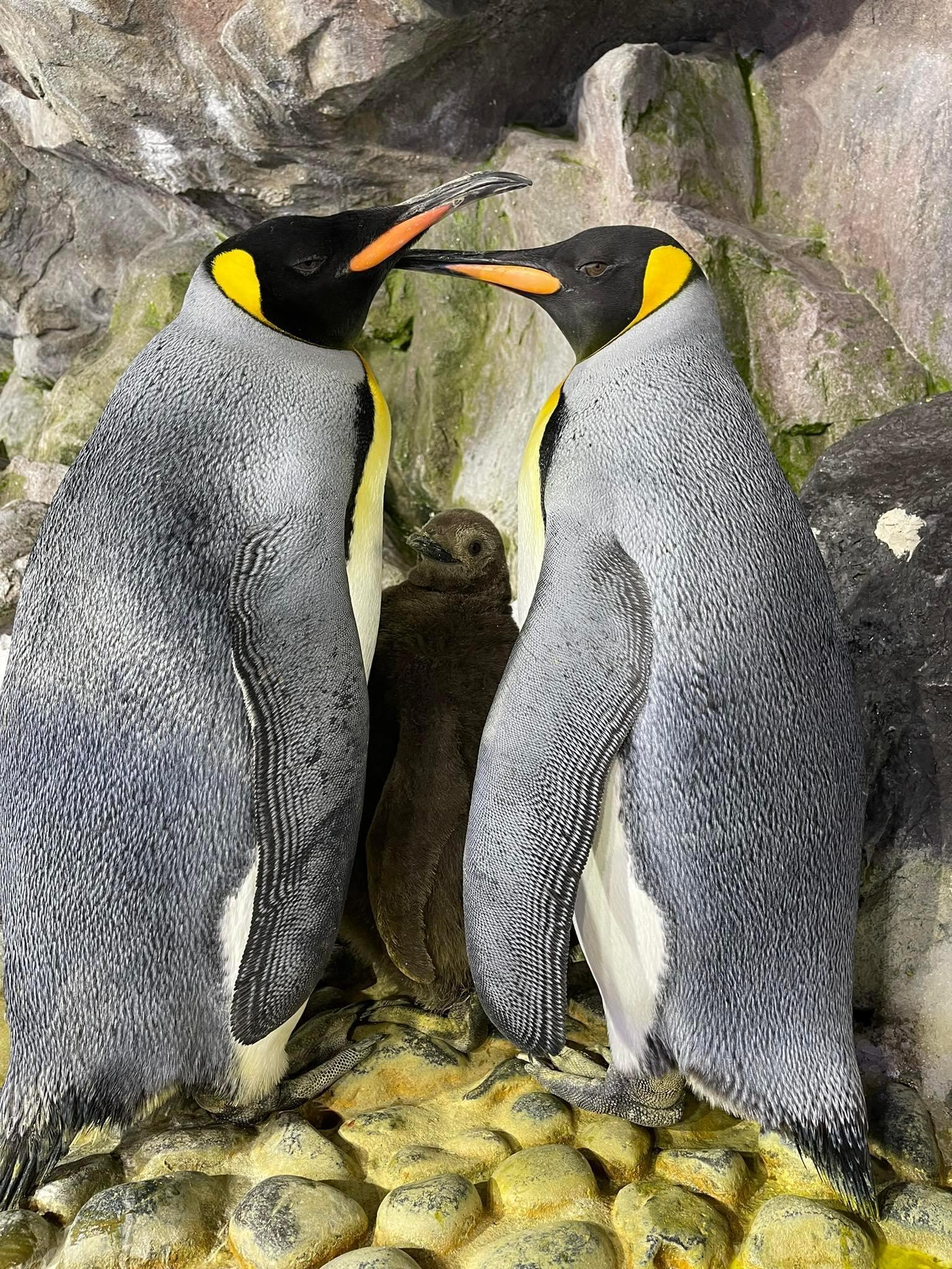Penguin: (2, 173, 526, 1202), (407, 226, 875, 1210), (340, 508, 518, 1014)
